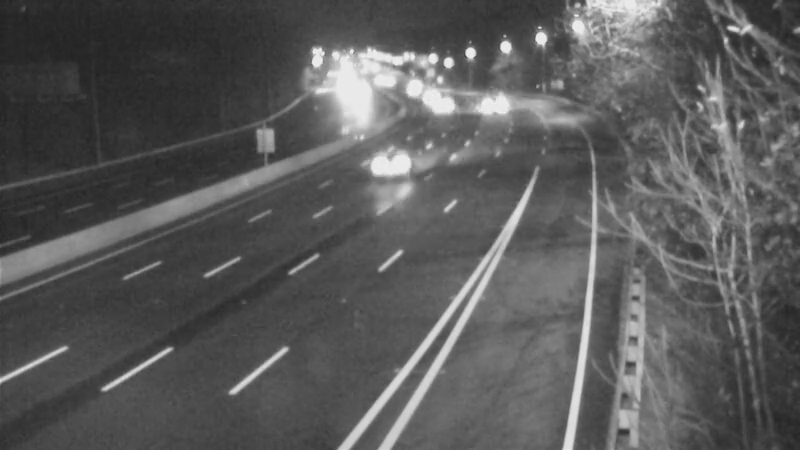vehicle: (353, 126, 433, 206), (389, 66, 439, 116), (401, 72, 451, 122), (414, 82, 464, 132), (460, 83, 510, 133), (325, 72, 375, 122)
